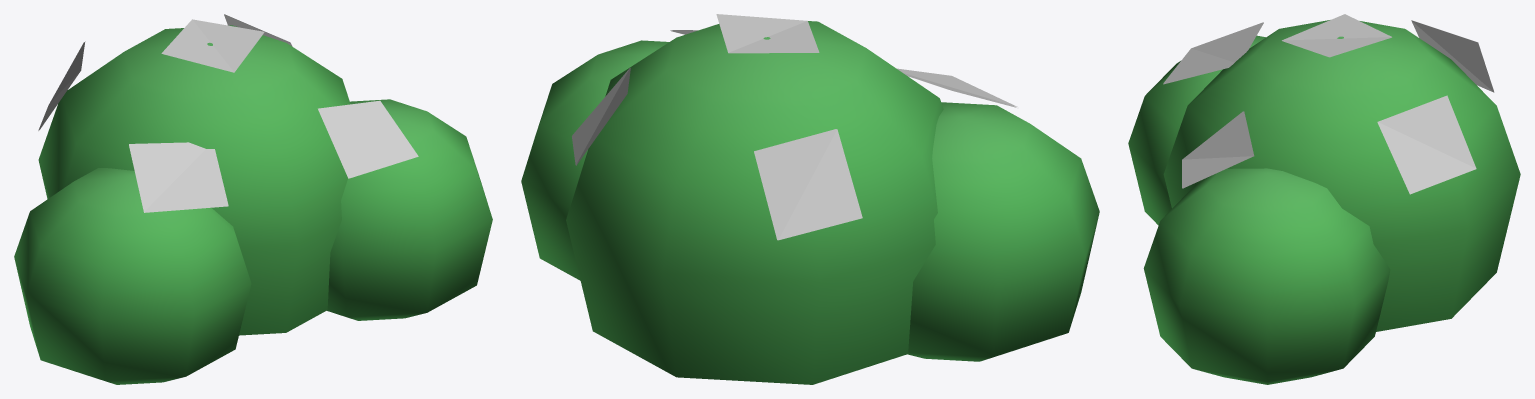
The model's file is Furniture_Vegetation_6.fbx.
3 views of the same model, side by side, from view 1: azimuth 30°, elevation 25°; view 2: azimuth 150°, elevation 25°; view 3: azimuth 270°, elevation 25° (orthographic). The views are drawn at different scales.
Visible parts, largest first — view 1: Furniture_Vegetation_6, Furniture_Vegetation_6_1; view 2: Furniture_Vegetation_6, Furniture_Vegetation_6_1; view 3: Furniture_Vegetation_6, Furniture_Vegetation_6_1.
Part boxes in pixels (box(x1,y1,x2,y2)): Furniture_Vegetation_6: box(14, 25, 492, 384); Furniture_Vegetation_6_1: box(38, 14, 418, 212); Furniture_Vegetation_6: box(521, 21, 1099, 384); Furniture_Vegetation_6_1: box(572, 14, 1017, 240); Furniture_Vegetation_6: box(1128, 20, 1520, 384); Furniture_Vegetation_6_1: box(1163, 14, 1494, 194).
Bounding box in the file's own units: 212 × 114 × 154.
